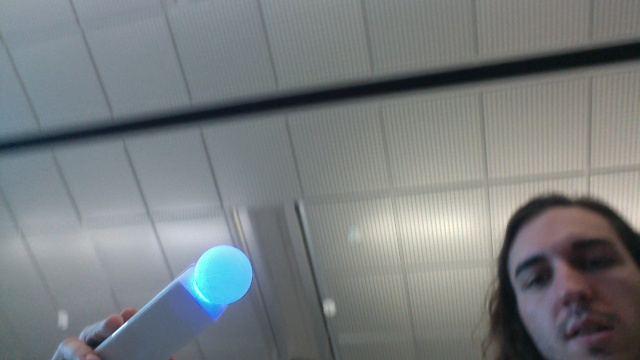wand: (195, 247, 254, 307)
